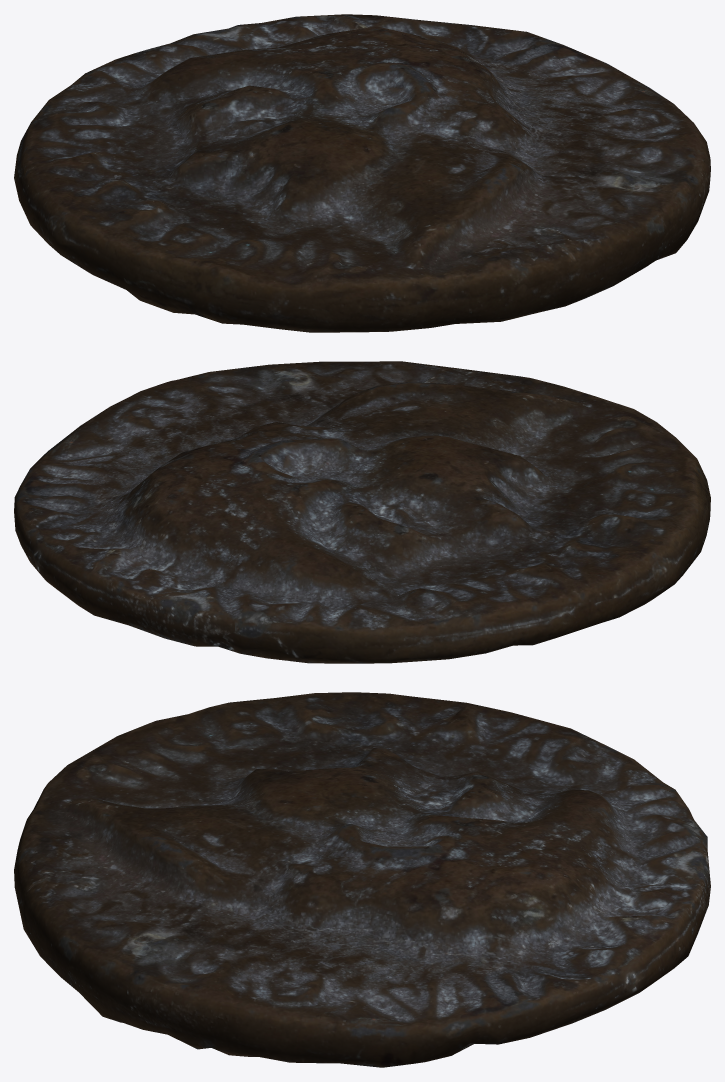
File: old_roman_coin_ueinbaiva_mid.glb
3 renders of one model, top to bottom at view 1: azimuth 30°, elevation 25°; view 2: azimuth 150°, elevation 25°; view 3: azimuth 270°, elevation 25°, orthographic. The views are drawn at different scales.
Parts seen in each view (by area): view 1: ueinbaiva_LOD0_TIER2_000; view 2: ueinbaiva_LOD0_TIER2_000; view 3: ueinbaiva_LOD0_TIER2_000.
Part boxes in pixels (<box>): ueinbaiva_LOD0_TIER2_000: <box>14,14,710,332</box>; ueinbaiva_LOD0_TIER2_000: <box>14,361,710,663</box>; ueinbaiva_LOD0_TIER2_000: <box>14,692,710,1067</box>.
Bounding box in the file's own units: 0.0323 × 0.00547 × 0.03.
Materials: 1 (1 with a texture image).
